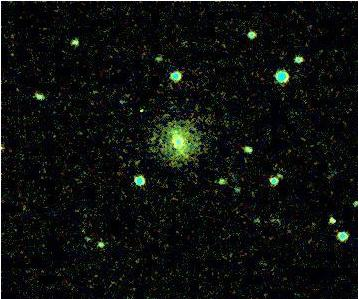star: (169, 142, 199, 172)
